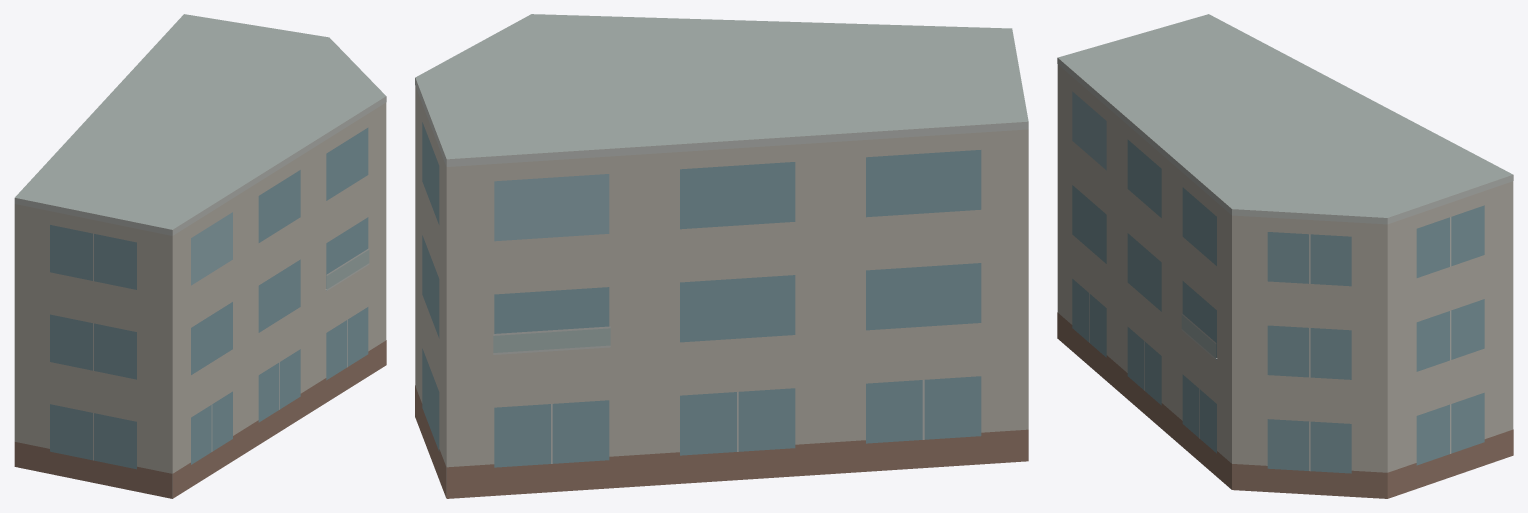
The model's file is survey-upis-32489935.glb.
3 renders of one model, left to right at view 1: azimuth 30°, elevation 25°; view 2: azimuth 150°, elevation 25°; view 3: azimuth 270°, elevation 25°, orthographic. The views are drawn at different scales.
Parts seen in each view (by area): view 1: survey-upis-32489935.tmp; view 2: survey-upis-32489935.tmp; view 3: survey-upis-32489935.tmp.
Part boxes in pixels (x1,y1,x2,y2): survey-upis-32489935.tmp: (14,14,386,498); survey-upis-32489935.tmp: (415,14,1028,498); survey-upis-32489935.tmp: (1057,14,1513,498).
Size of the model in its own units: 16.68 by 10.7 by 15.75.
